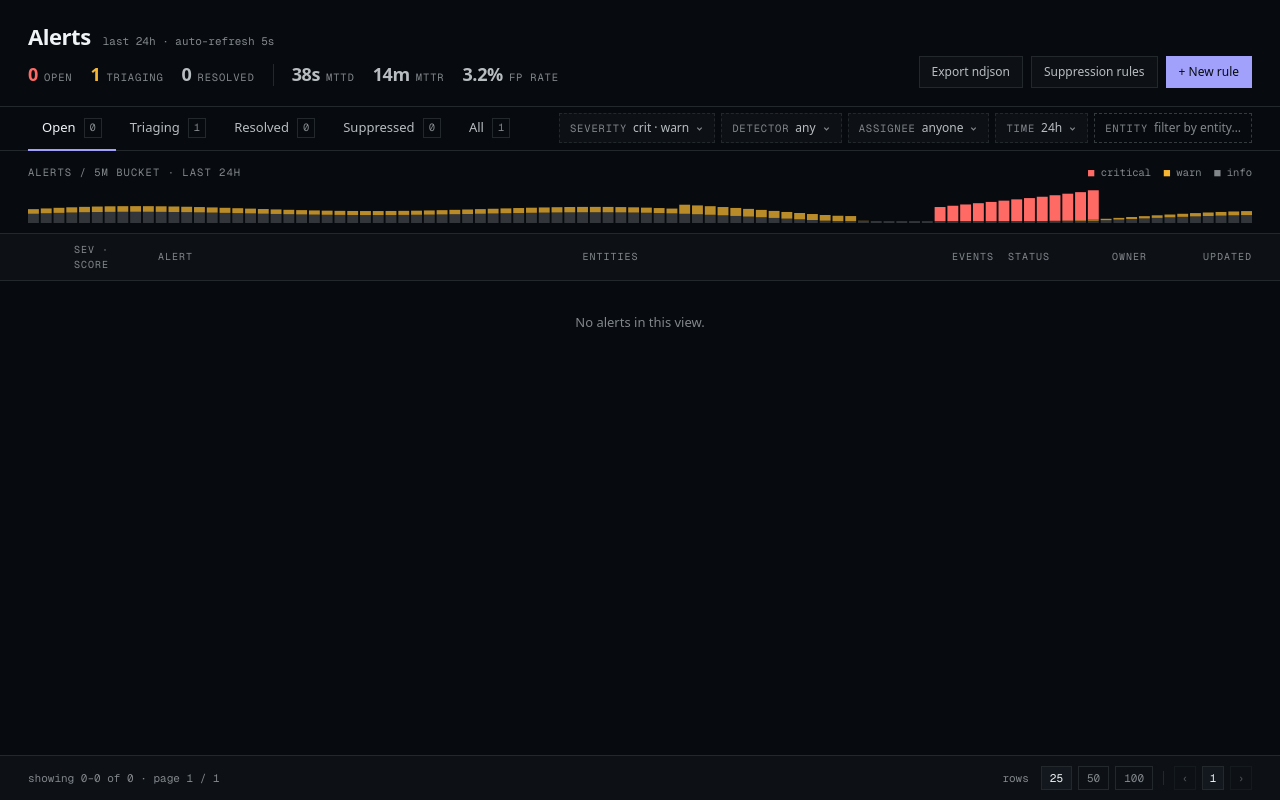
Scenario: AlertFeed integration › warm-up then live alert appears at top
This screenshot has width=1280, height=800.
# "All" tab so derived workflow status never hides an ingested row.
Click the tab "All 1" at [490, 129], box x1=455 y1=107 x2=524 y2=151
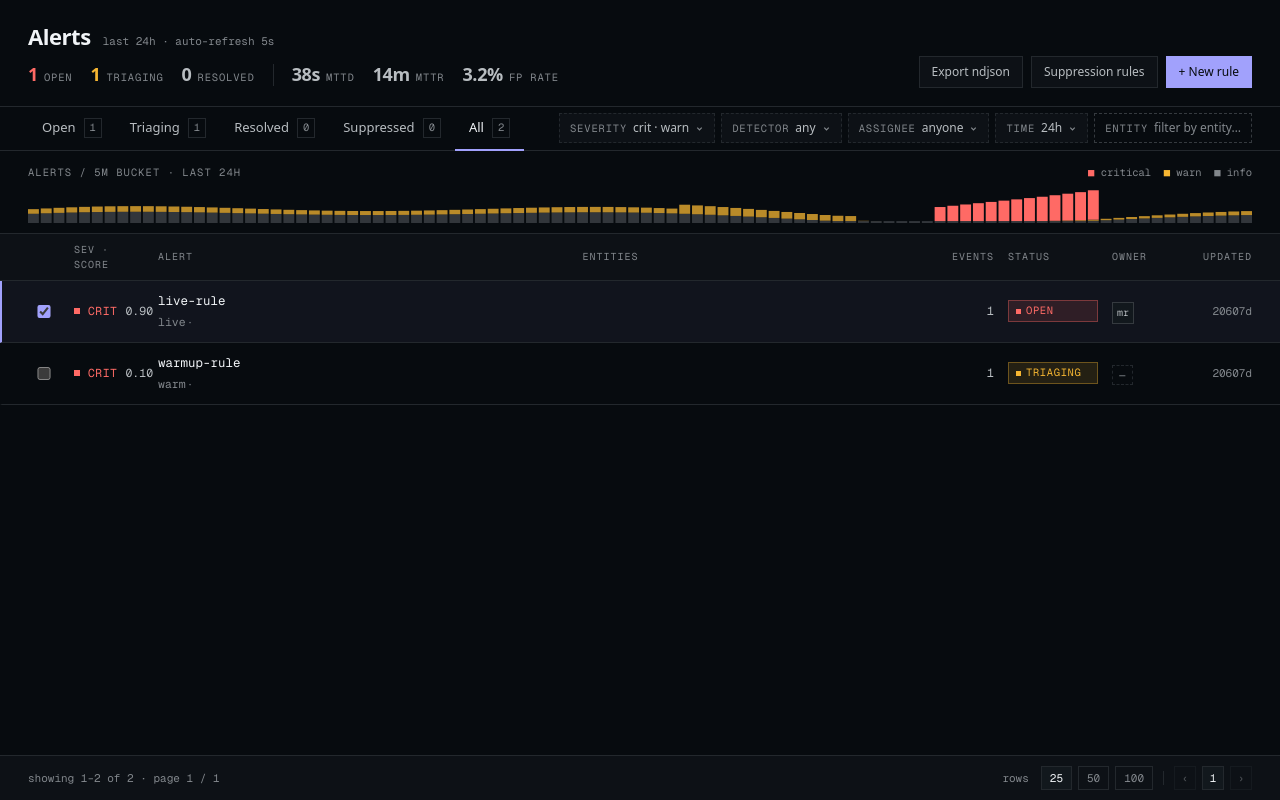
Expected: the text "warmup-rule" is shown, x1=158 y1=354 x2=240 y2=372
Expected: the text "live-rule" is shown, x1=158 y1=292 x2=226 y2=310
